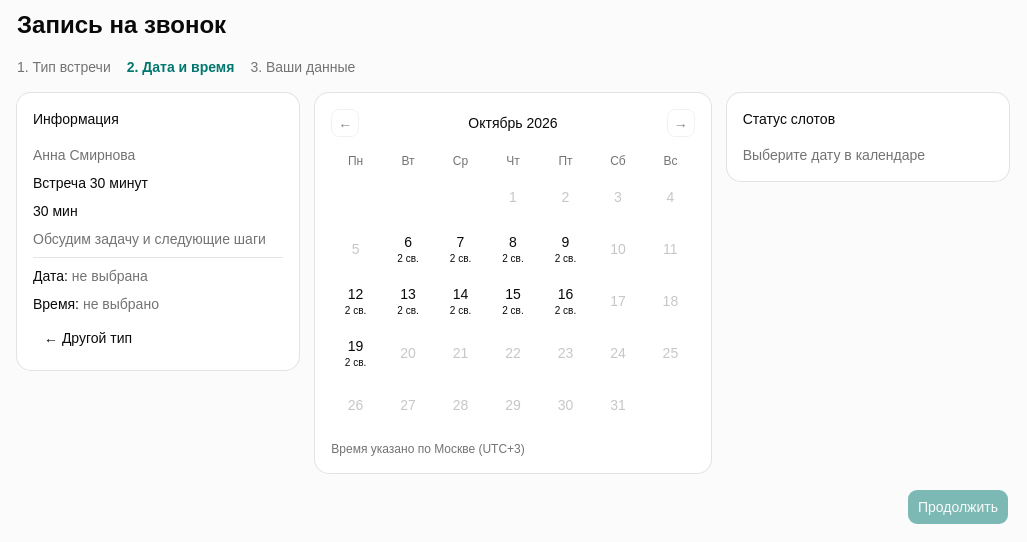
колонка «Статус слотов» › выбор другого дня сбрасывает выбранный слот
Click the button "7 2 св." at (461, 249), box [436,225,485,273]
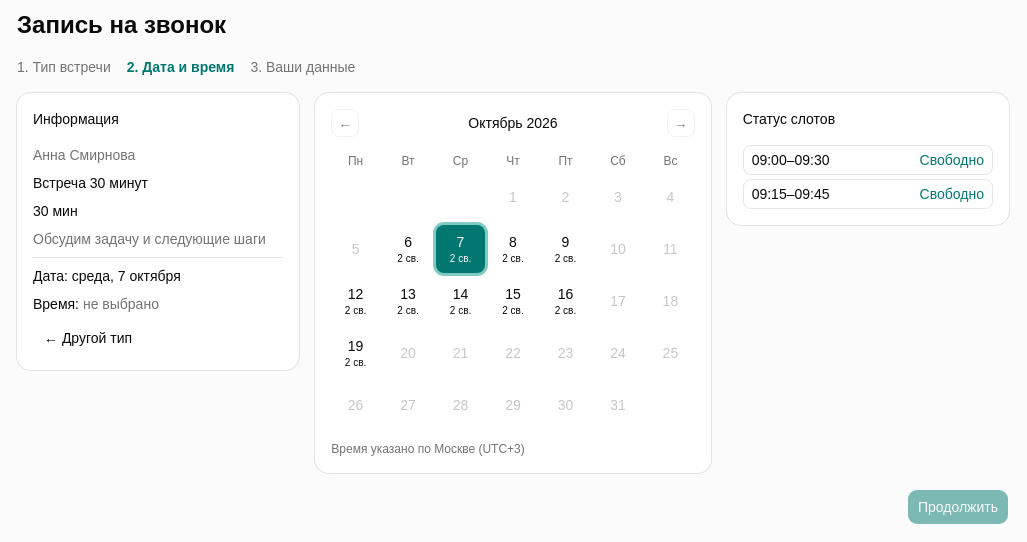
Click the button "09:00–09:30 Свободно" at (868, 160), box [743,145,993,175]
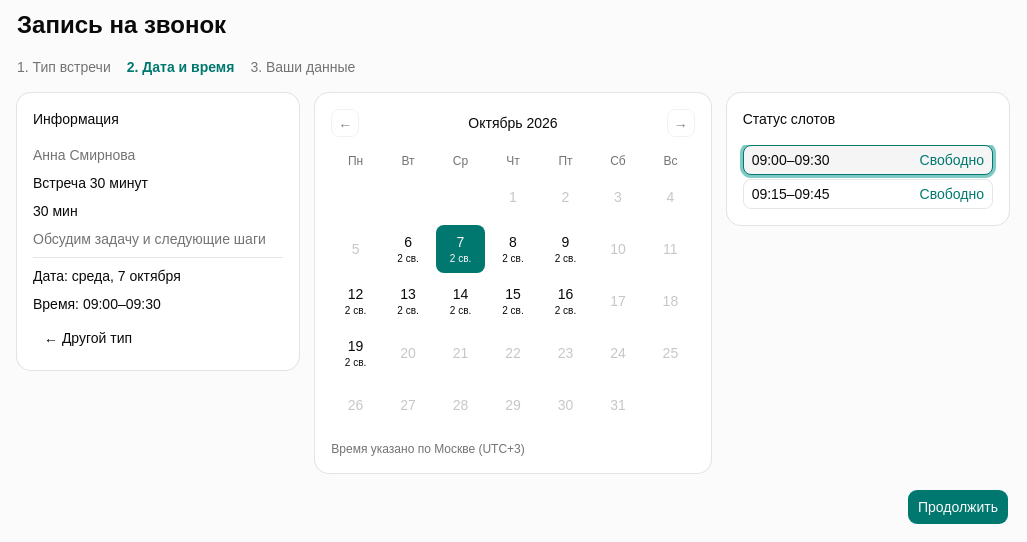
Check: the button "Продолжить" is enabled, box [907,489,1009,525]
Click the button "8 2 св." at (513, 249), box [489,225,537,273]
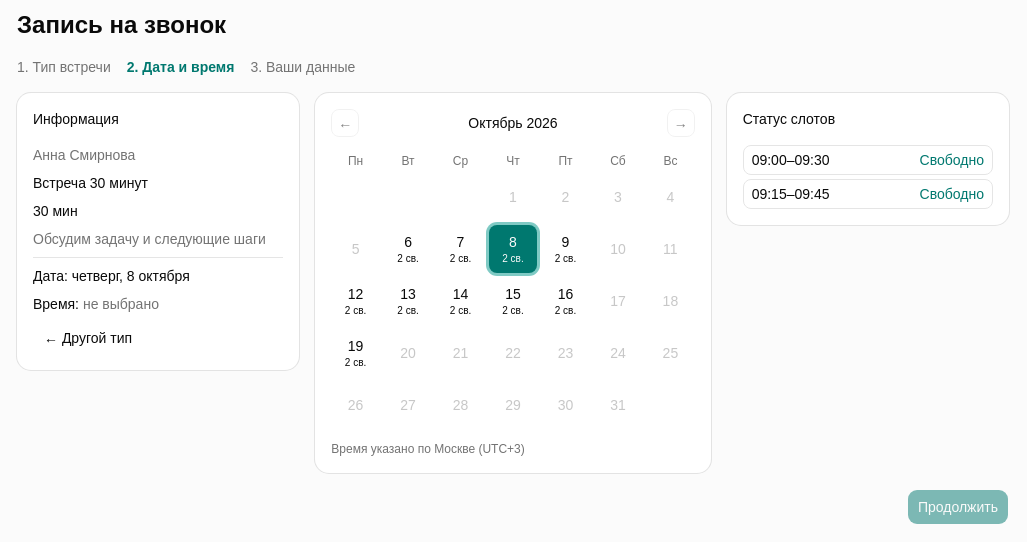
Check: the element "Информация" shows "Время: не выбрано", box [17,93,299,370]
Check: the button "Продолжить" is disabled, box [907,489,1009,525]
